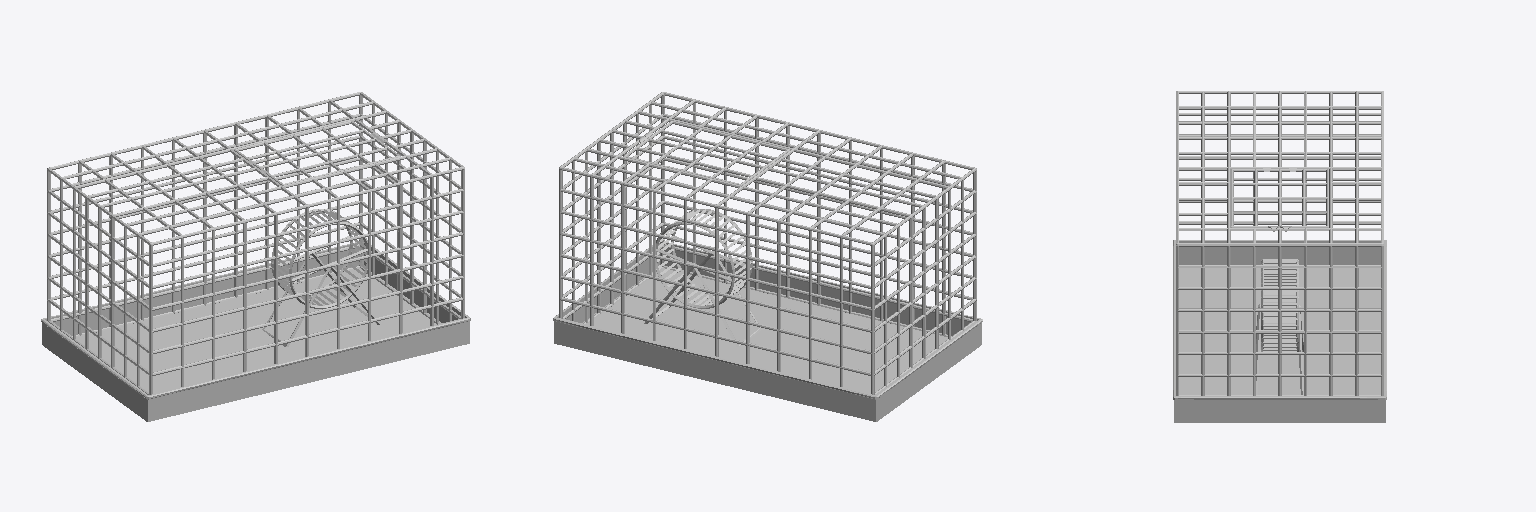
The model's file is Rat cage.obj.
3 views of the same model, side by side, from view 1: azimuth 30°, elevation 25°; view 2: azimuth 150°, elevation 25°; view 3: azimuth 270°, elevation 25° (orthographic).
Parts seen in each view (by area): view 1: Rat_cage; view 2: Rat_cage; view 3: Rat_cage.
Boxes of the visible parts, <box> form: Rat_cage: <box>41,92,470,421</box>; Rat_cage: <box>553,92,982,421</box>; Rat_cage: <box>1173,91,1386,422</box>.
Bounding box in the file's own units: 414 × 218 × 237.